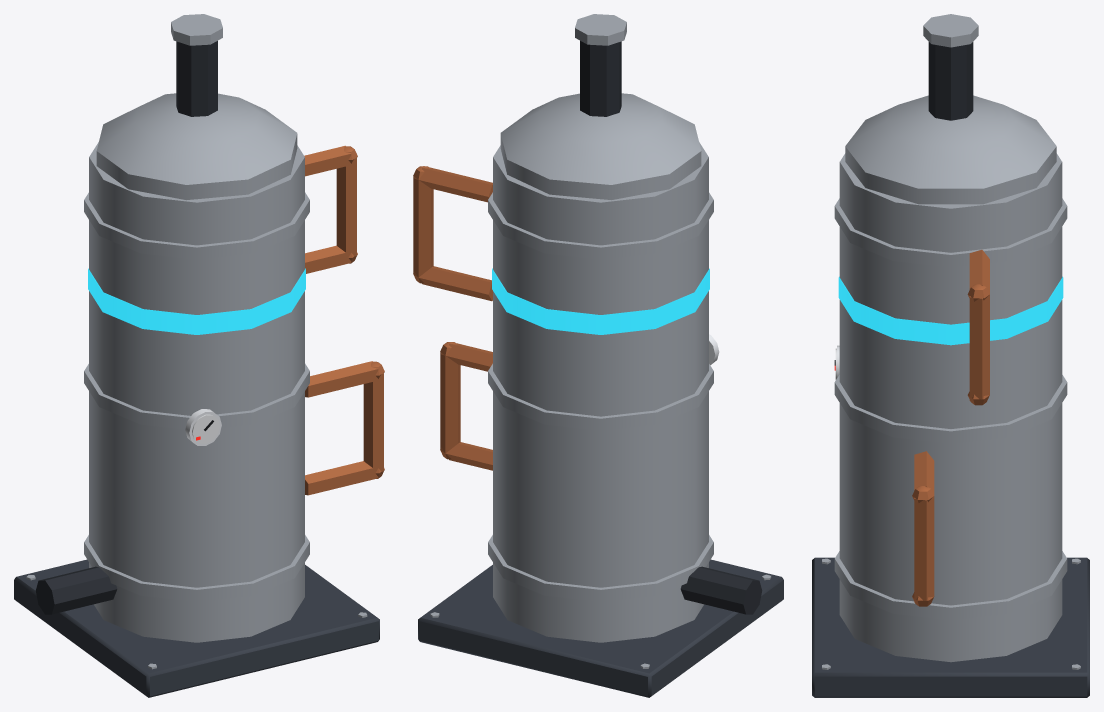
File: tank_condenser.glb
3 views of the same model, side by side, from view 1: azimuth 30°, elevation 25°; view 2: azimuth 150°, elevation 25°; view 3: azimuth 270°, elevation 25° (orthographic). The views are drawn at different scales.
Parts seen in each view (by area): view 1: tank_condenser; view 2: tank_condenser; view 3: tank_condenser.
Part boxes in pixels (x1,y1,x2,y2): tank_condenser: [14, 14, 384, 697]; tank_condenser: [413, 14, 783, 697]; tank_condenser: [812, 14, 1089, 697].
Bounding box in the file's own units: 1.39 × 2.44 × 1.
